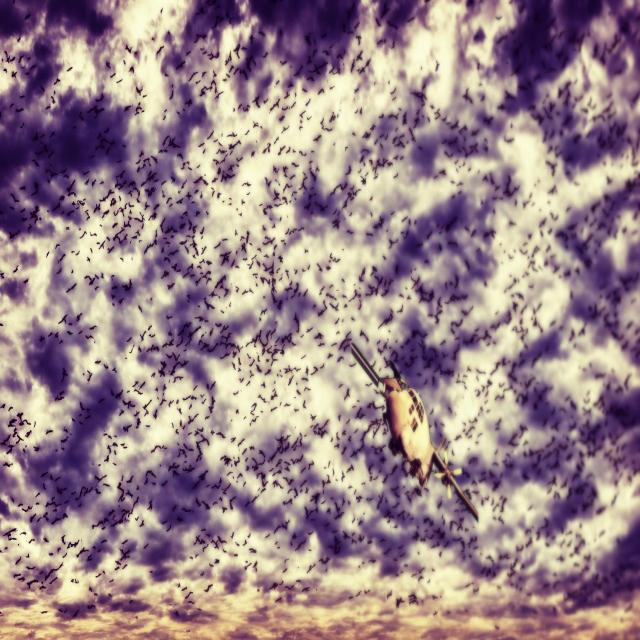airplane: (350, 342, 479, 522)
